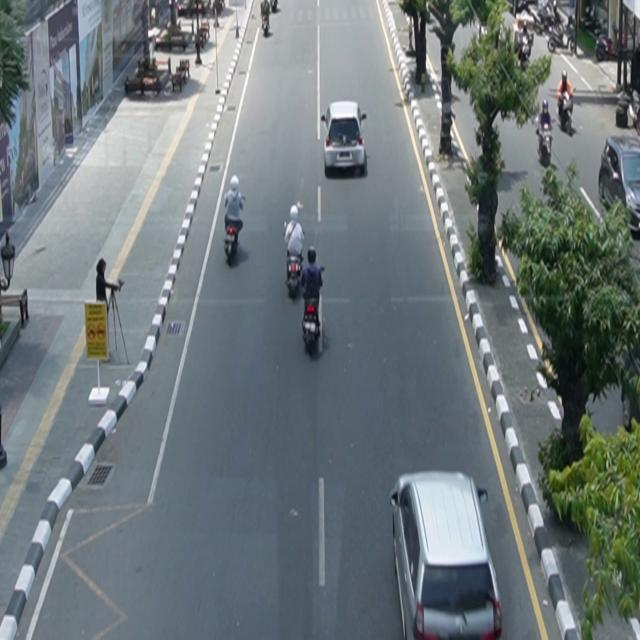car: (391, 471, 504, 640), (599, 135, 640, 237), (321, 101, 368, 177)
